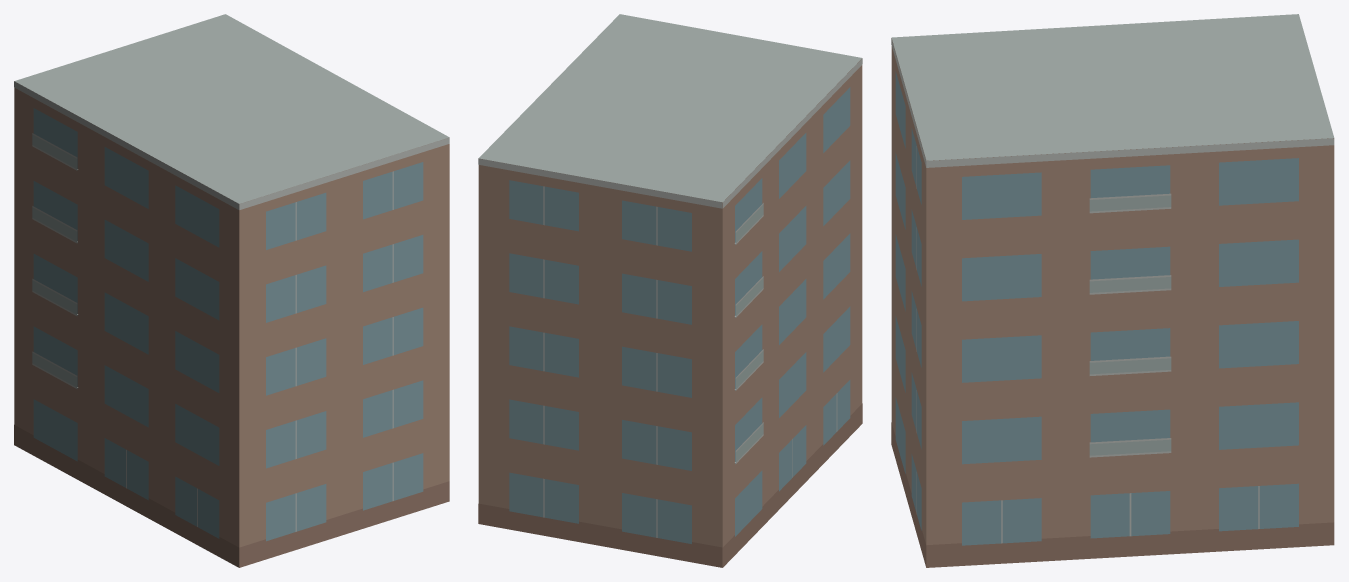
The model's file is survey-upis-32990349.glb.
The picture shows the model from 3 angles, left to right: view 1: azimuth 30°, elevation 25°; view 2: azimuth 150°, elevation 25°; view 3: azimuth 270°, elevation 25°; orthographic projection. The views are drawn at different scales.
Parts seen in each view (by area): view 1: survey-upis-32990349.tmp; view 2: survey-upis-32990349.tmp; view 3: survey-upis-32990349.tmp.
Part boxes in pixels (x1,y1,x2,y2): survey-upis-32990349.tmp: (14,14,449,567); survey-upis-32990349.tmp: (478,14,862,567); survey-upis-32990349.tmp: (891,14,1334,567).
Bounding box in the file's own units: 10.76 × 13.9 × 13.72.
